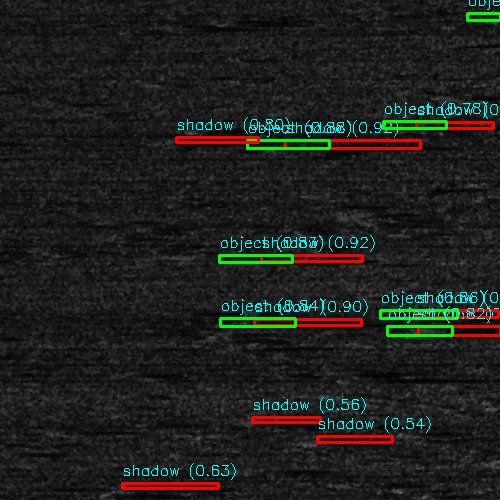rock: (258, 141, 331, 150), (382, 325, 435, 336), (377, 311, 450, 318), (209, 320, 282, 325), (236, 257, 299, 262), (382, 123, 435, 128), (469, 13, 500, 20), (355, 374, 396, 377)
shadow: (295, 141, 410, 150), (409, 325, 500, 336), (414, 311, 500, 318), (246, 320, 355, 325), (409, 123, 500, 128), (268, 257, 358, 262), (376, 374, 448, 377)
